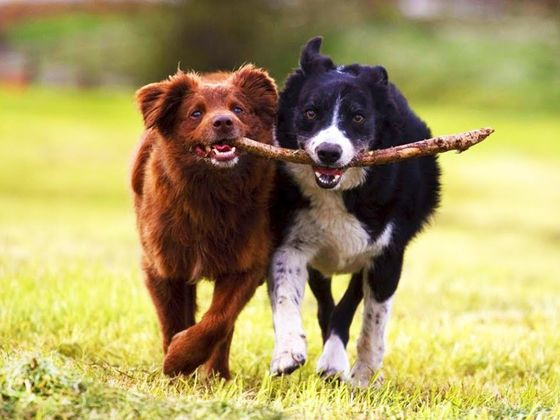dog: (273, 52, 444, 391), (128, 67, 275, 372)
